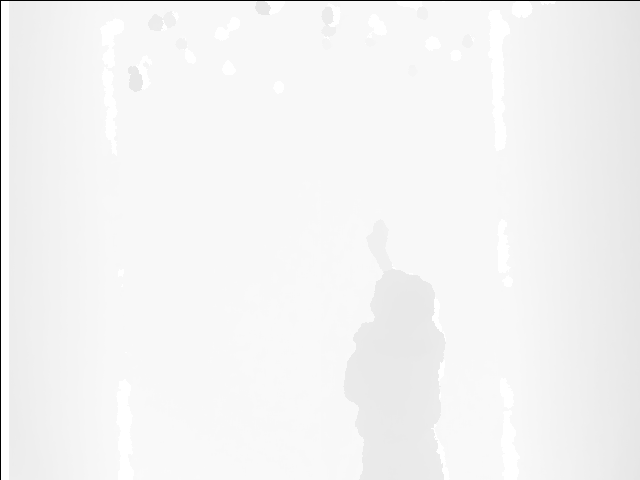hand: (364, 219, 392, 262)
